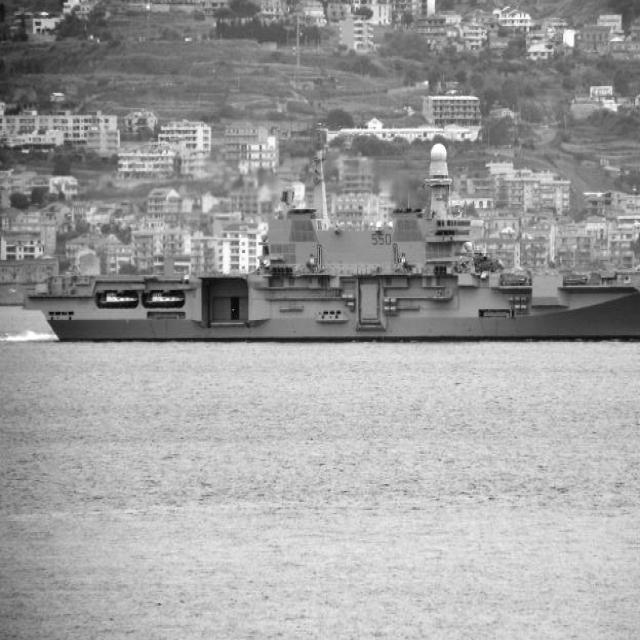Portanaves: (23, 135, 640, 347)
